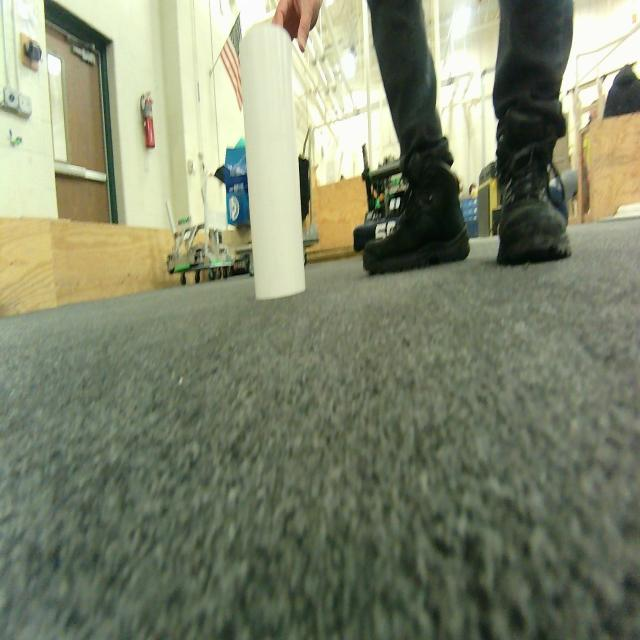coral: (240, 22, 305, 299)
